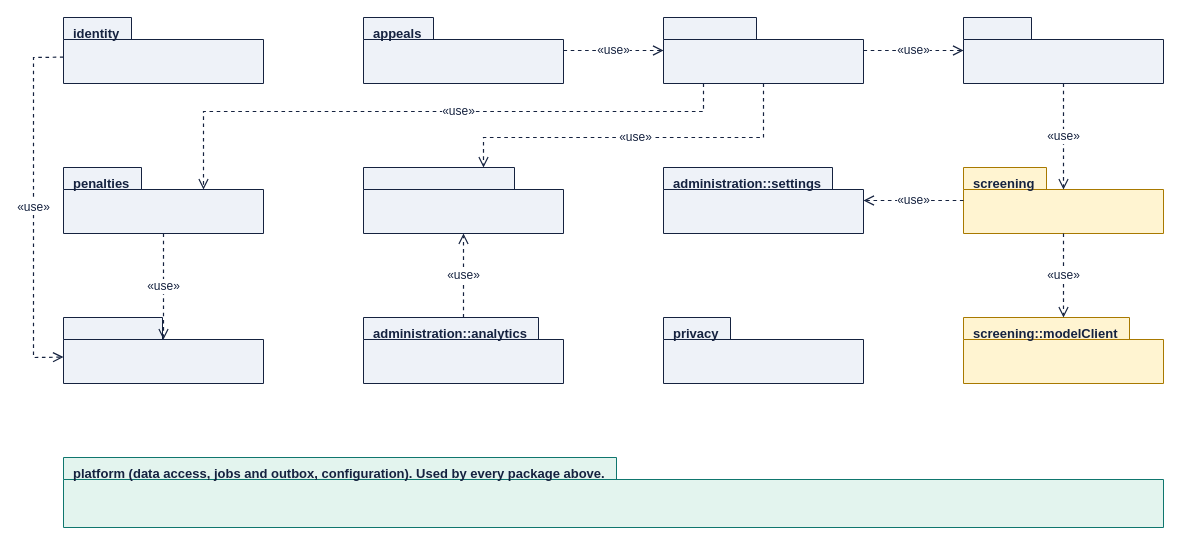
The diagram is 1181 pixels wide and 545 high, and some of its shapes have lost their labels. The shapes that lost their labels are listed below. From the top down, each one's centre as x and y in pixels, then its label:
(763,50): moderation
(1063,50): content
(463,200): administration::audit
(163,350): notifications
